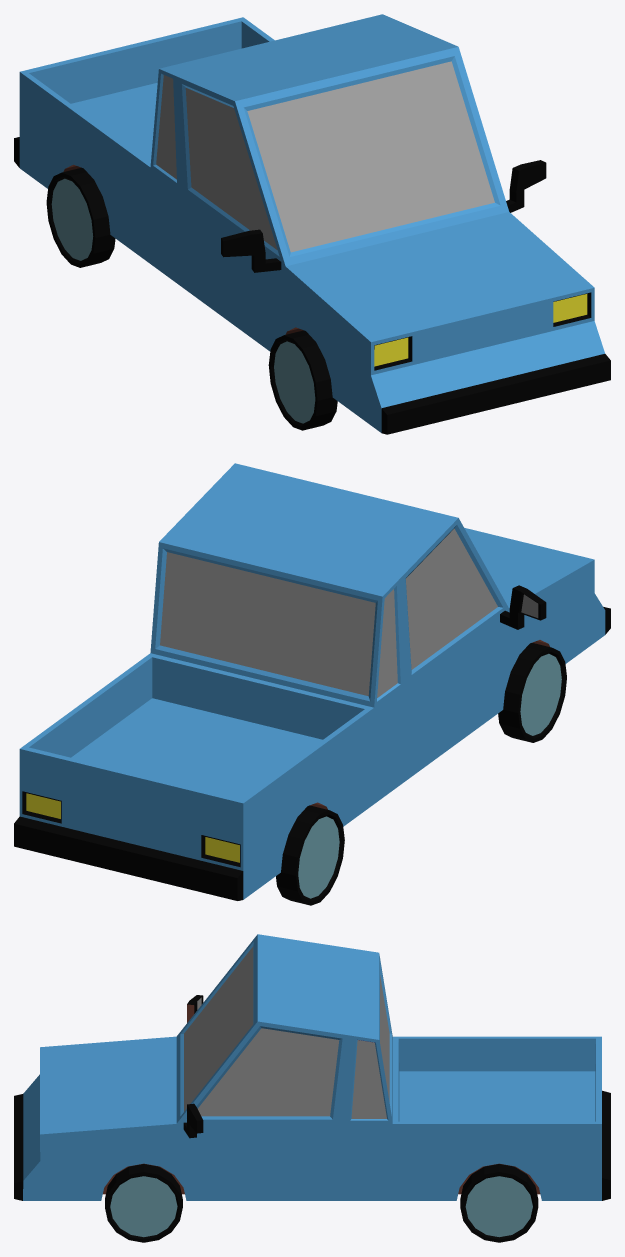
The model's file is Pickup Truck 3.fbx.
The picture shows the model from 3 angles, top to bottom: view 1: azimuth 30°, elevation 25°; view 2: azimuth 150°, elevation 25°; view 3: azimuth 270°, elevation 25°; orthographic projection. The views are drawn at different scales.
Visible parts, largest first — view 1: Pickup Truck Body.003, Wheel RR.017, Wheel FR.019; view 2: Pickup Truck Body.003, Wheel RR.017, Wheel FR.019; view 3: Pickup Truck Body.003, Wheel RL.017, Wheel FL.019.
Part boxes in pixels (x1,y1,x2,y2): Pickup Truck Body.003: (14, 14, 610, 434); Wheel RR.017: (46, 167, 115, 267); Wheel FR.019: (268, 330, 337, 430); Pickup Truck Body.003: (14, 463, 610, 900); Wheel RR.017: (276, 805, 344, 905); Wheel FR.019: (498, 643, 566, 742); Pickup Truck Body.003: (14, 934, 610, 1200); Wheel RL.017: (460, 1164, 538, 1242); Wheel FL.019: (105, 1164, 182, 1242).
Bounding box in the file's own units: 2.22 × 1.78 × 4.45.
